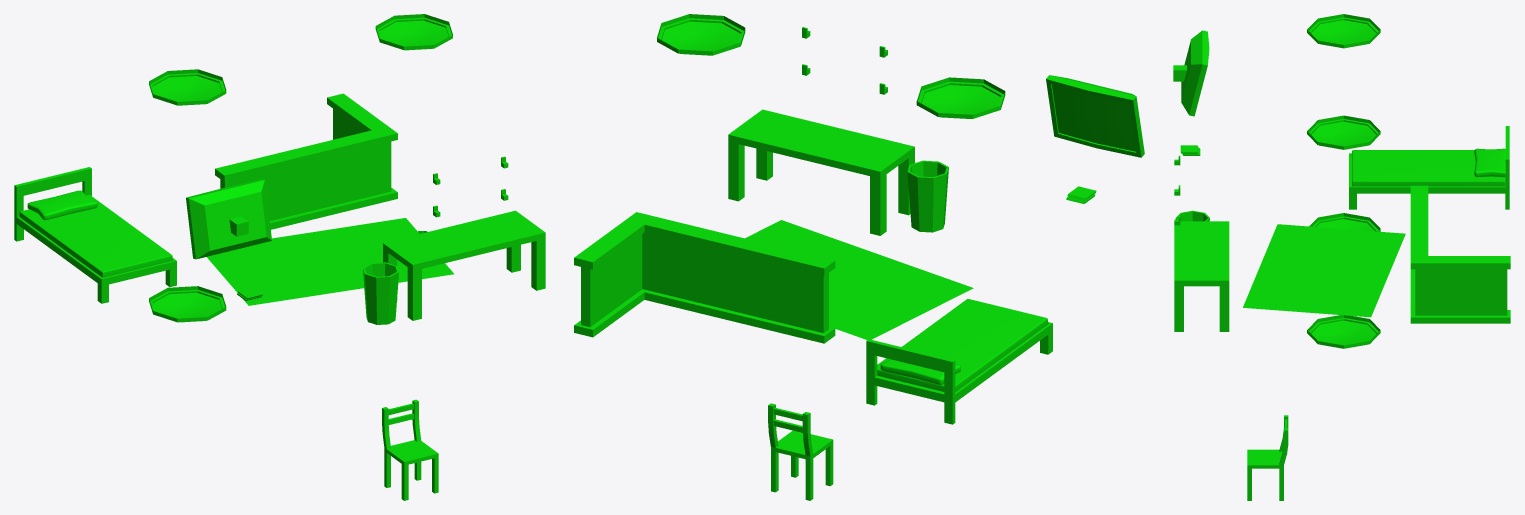
The model's file is Interior_static.fbx.
The picture shows the model from 3 angles, left to right: view 1: azimuth 30°, elevation 25°; view 2: azimuth 150°, elevation 25°; view 3: azimuth 270°, elevation 25°; orthographic projection. The views are drawn at different scales.
Visible parts, largest first — view 1: stair_fence, carpet, Table, pCube7, TV, Bed, Chair, Lamp3, Lamp1, Lamp, bucket, Pillow; view 2: stair_fence, carpet, Table, pCube7, TV, Bed, Chair, Lamp, Lamp1, bucket, Pillow; view 3: carpet, stair_fence, pCube7, Table, Lamp, Lamp2, Lamp1, TV, Bed, Chair, Lamp3, Pillow.
Part boxes in pixels (left/top/right/bottom): stair_fence: left=215, top=93, right=397, bottom=229; carpet: left=207, top=218, right=454, bottom=305; Table: left=383, top=210, right=545, bottom=320; pCube7: left=19, top=194, right=172, bottom=277; TV: left=186, top=179, right=271, bottom=259; Bed: left=14, top=167, right=176, bottom=303; Chair: left=382, top=399, right=438, bottom=500; Lamp3: left=149, top=286, right=226, bottom=322; Lamp1: left=149, top=69, right=226, bottom=105; Lamp: left=375, top=14, right=452, bottom=50; bucket: left=363, top=262, right=398, bottom=324; Pillow: left=27, top=190, right=97, bottom=220; stair_fence: left=574, top=212, right=835, bottom=343; carpet: left=745, top=220, right=973, bottom=339; Table: left=728, top=109, right=914, bottom=235; pCube7: left=877, top=299, right=1047, bottom=391; TV: left=1046, top=75, right=1144, bottom=157; Bed: left=866, top=322, right=1052, bottom=424; Chair: left=768, top=403, right=833, bottom=500; Lamp: left=657, top=14, right=745, bottom=55; Lamp1: left=916, top=77, right=1005, bottom=118; bucket: left=907, top=160, right=948, bottom=232; Pillow: left=880, top=359, right=960, bottom=384; carpet: left=1243, top=224, right=1405, bottom=317; stair_fence: left=1410, top=185, right=1510, bottom=323; pCube7: left=1352, top=150, right=1505, bottom=186; Table: left=1174, top=221, right=1229, bottom=331; Lamp: left=1307, top=115, right=1380, bottom=149; Lamp2: left=1307, top=315, right=1380, bottom=348; Lamp1: left=1307, top=14, right=1380, bottom=48; TV: left=1173, top=30, right=1209, bottom=116; Bed: left=1349, top=126, right=1509, bottom=209; Chair: left=1247, top=415, right=1288, bottom=500; Lamp3: left=1309, top=213, right=1380, bottom=231; Pillow: left=1474, top=148, right=1505, bottom=177.
Size of the model in its own units: 1.66 by 1.9 by 1.52.
